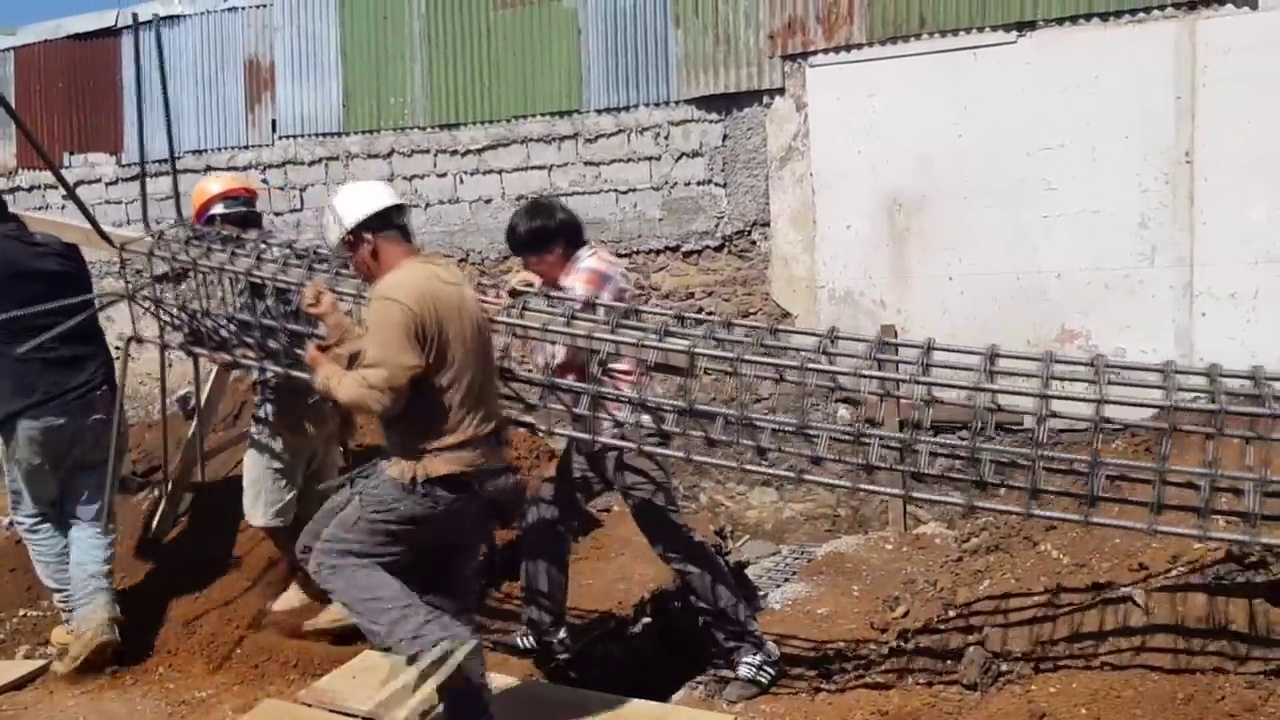helmet: (318, 173, 412, 258), (180, 171, 257, 230)
helmet-off: (501, 200, 591, 290)
helmet-on: (316, 172, 418, 284), (178, 170, 272, 246)
person: (296, 174, 493, 716), (501, 202, 731, 662), (178, 159, 362, 636), (0, 192, 127, 680)
